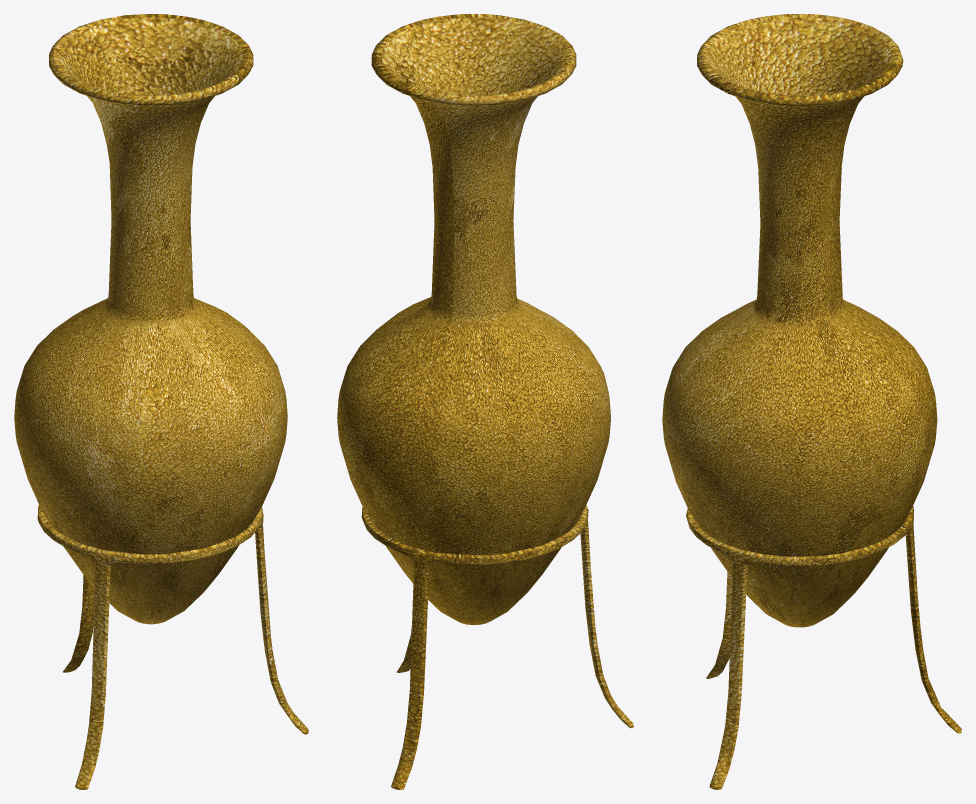
File: Pottery 2.FBX
3 renders of one model, left to right at view 1: azimuth 30°, elevation 25°; view 2: azimuth 150°, elevation 25°; view 3: azimuth 270°, elevation 25°, orthographic.
Visible parts, largest first — view 1: Pottery 2; view 2: Pottery 2; view 3: Pottery 2.
Boxes of the visible parts, left/top/right/bottom form: Pottery 2: left=14, top=14, right=308, bottom=789; Pottery 2: left=337, top=14, right=633, bottom=789; Pottery 2: left=662, top=14, right=961, bottom=789.
Bounding box in the file's own units: 40.56 × 110 × 44.14.
Materials: 1 (1 with a texture image).
